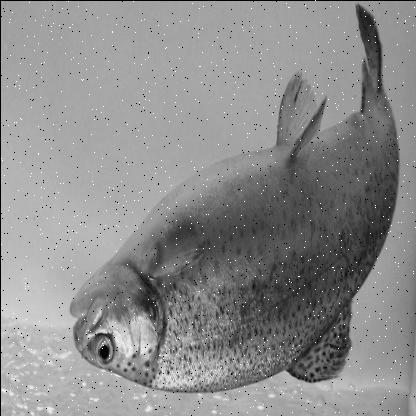fish: (69, 7, 395, 394)
